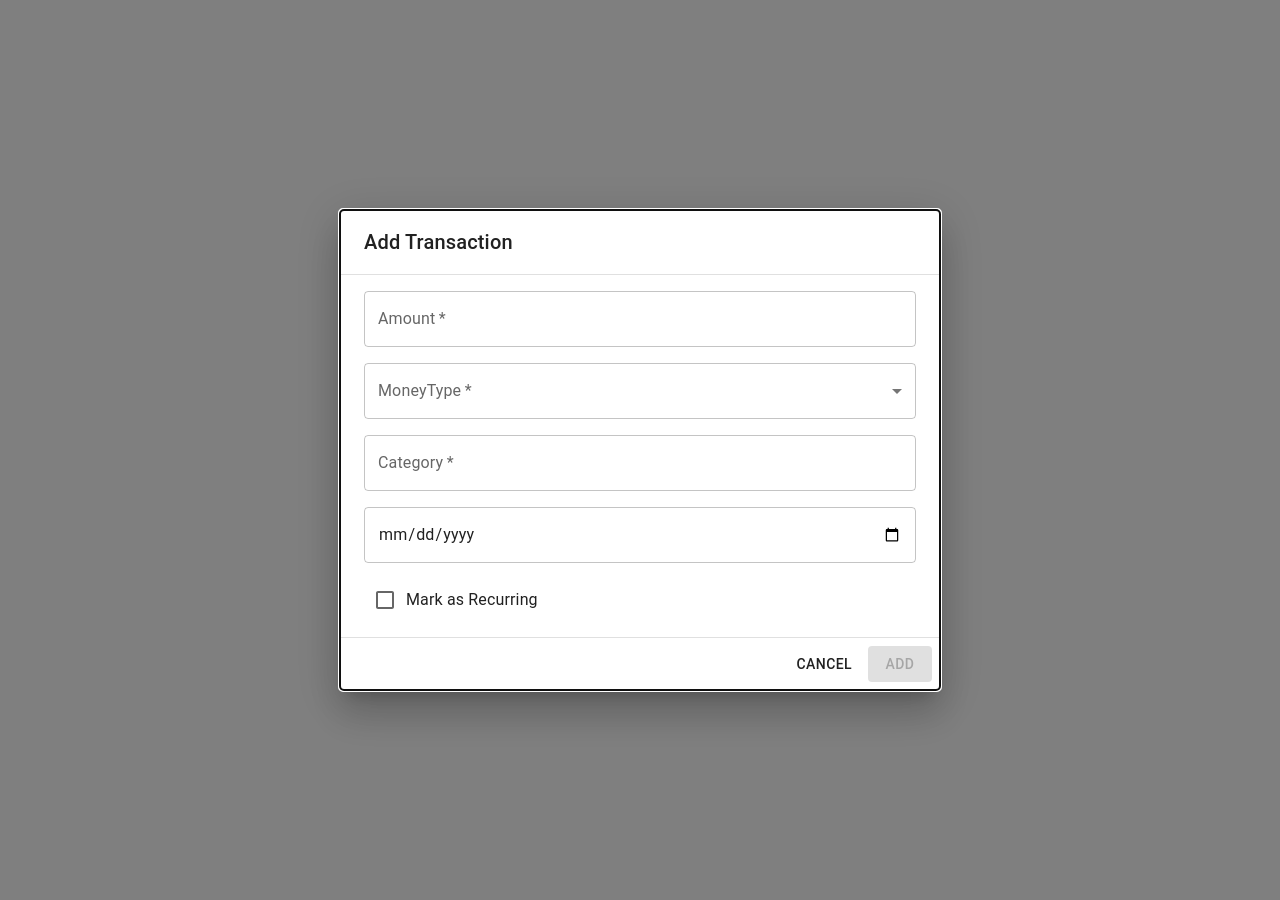
it: TransactionForm › blocks expense when balance too low
Type "500" into the number field with test id "amount" at (640,319), box [364,291,916,347]
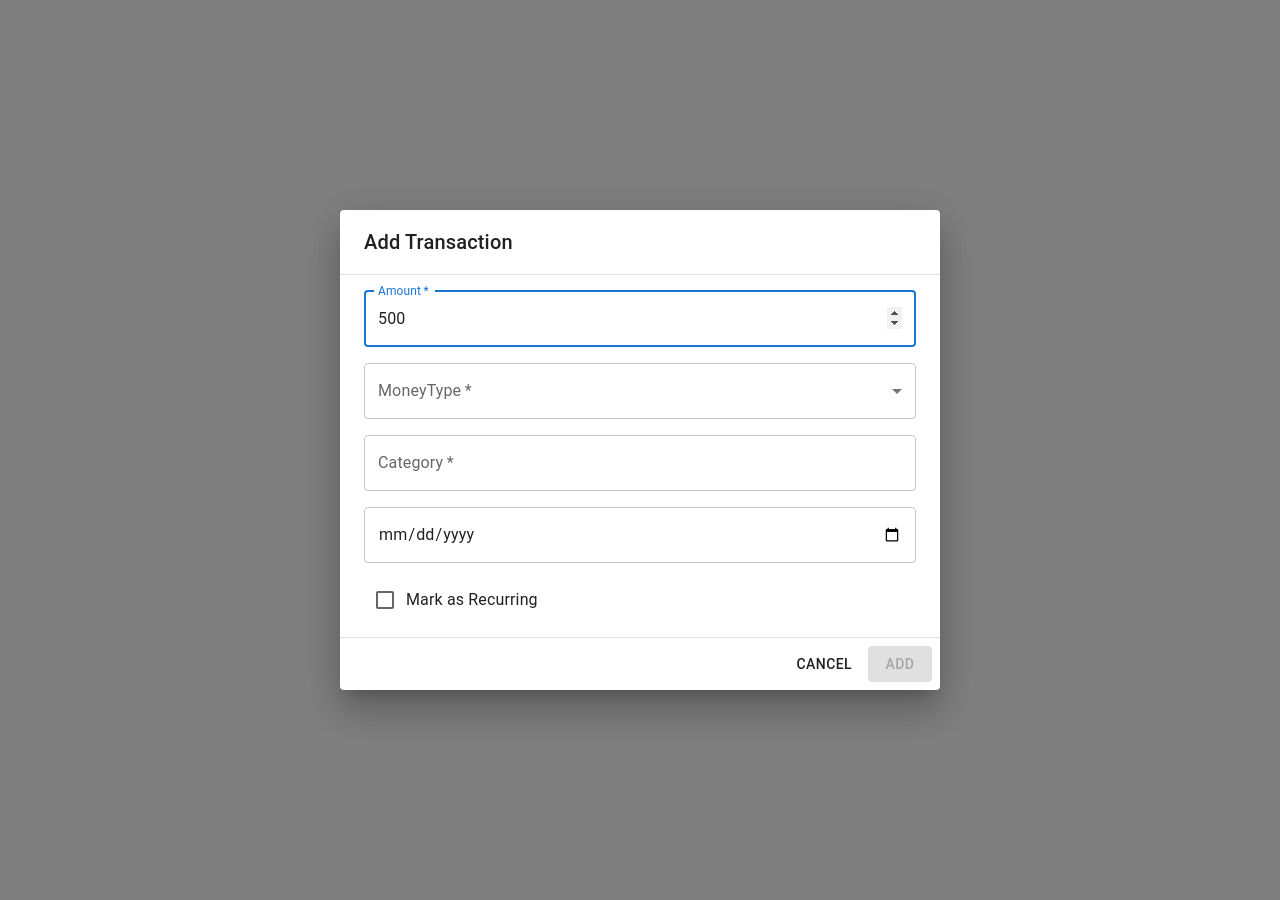
Type "Laptop" into the field with test id "Category" at (640,463), box [364,435,916,491]
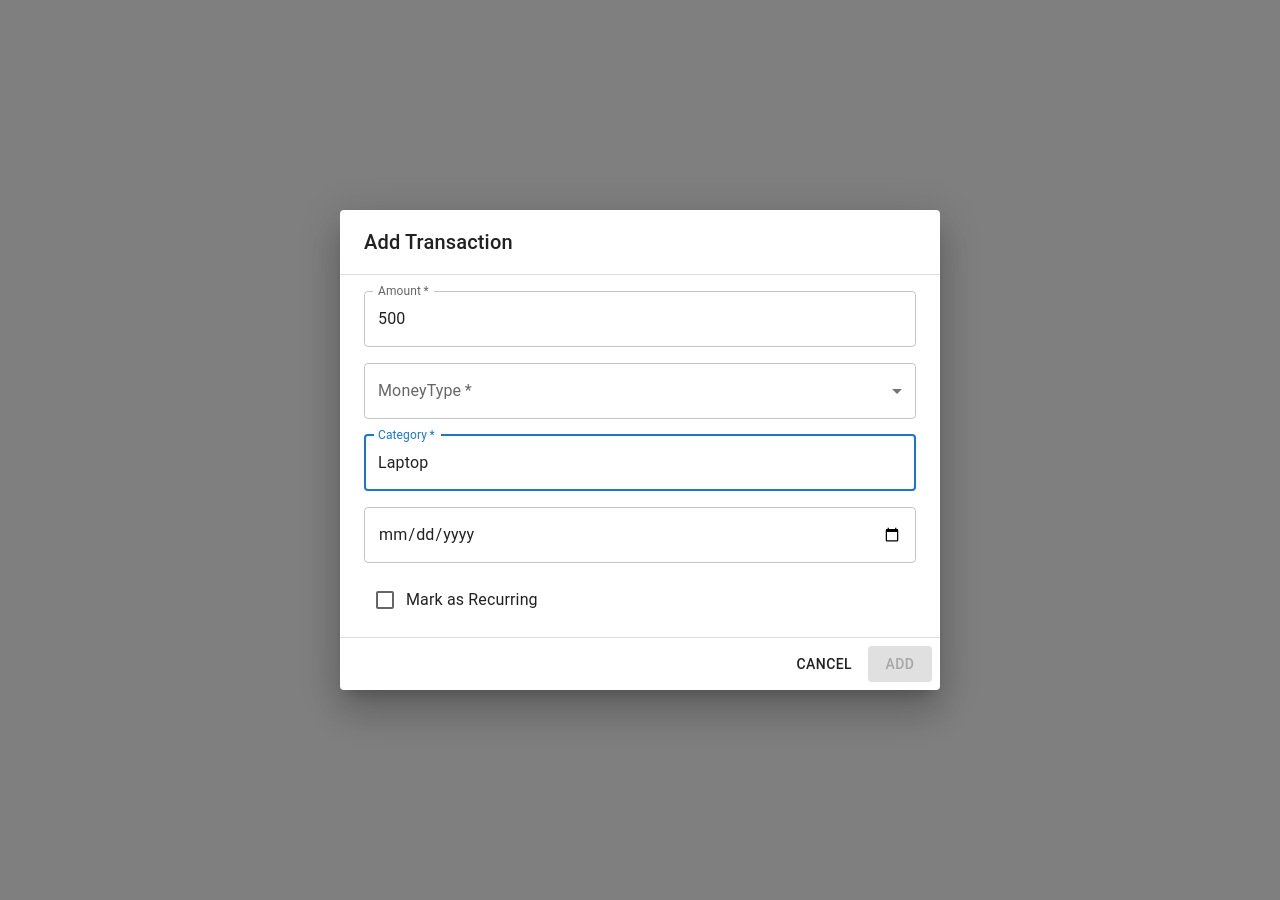
Click the dropdown named "MoneyType" at (640,391), box [364,363,916,419]
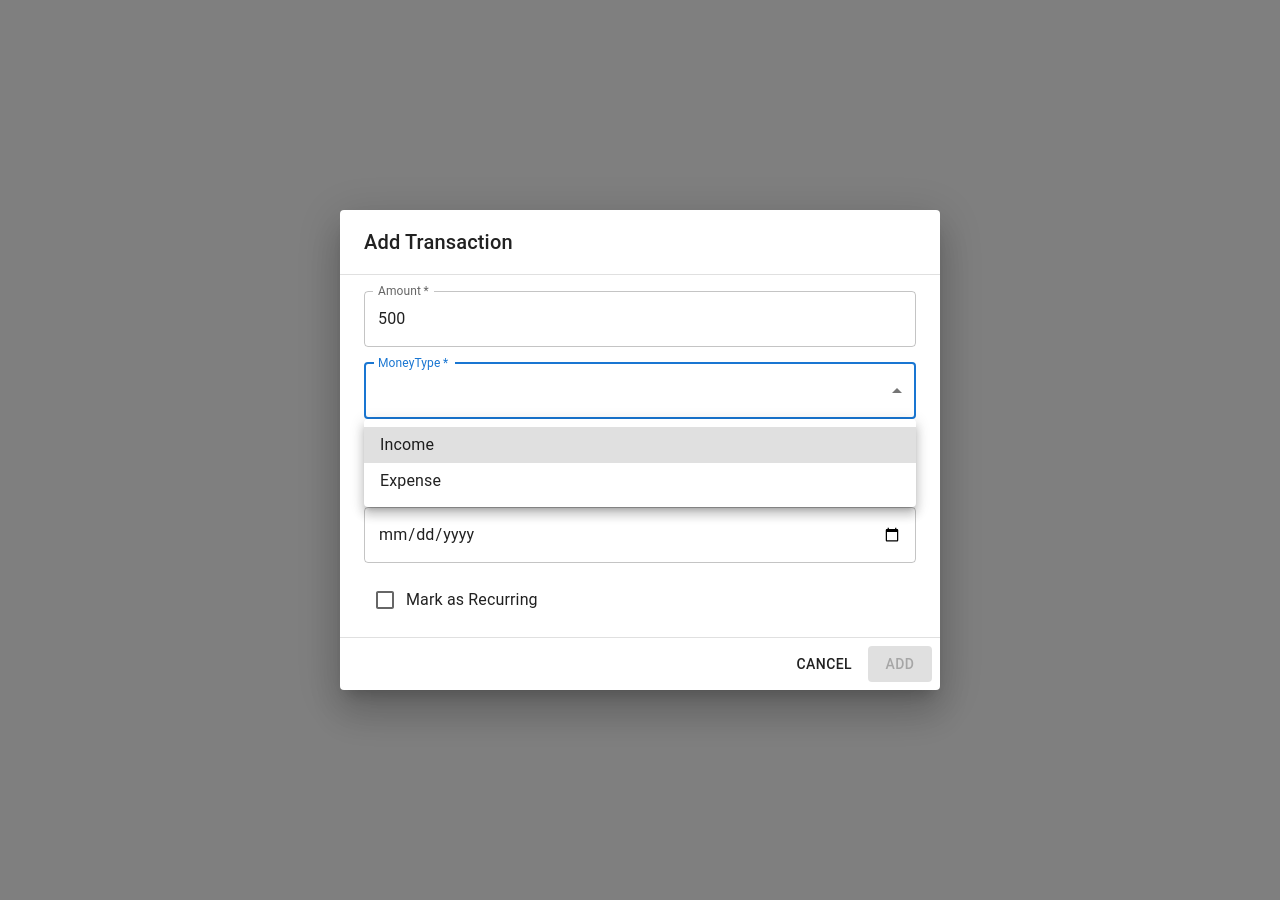
Click the option "Expense" at (411,480), box [380,471,441,490]
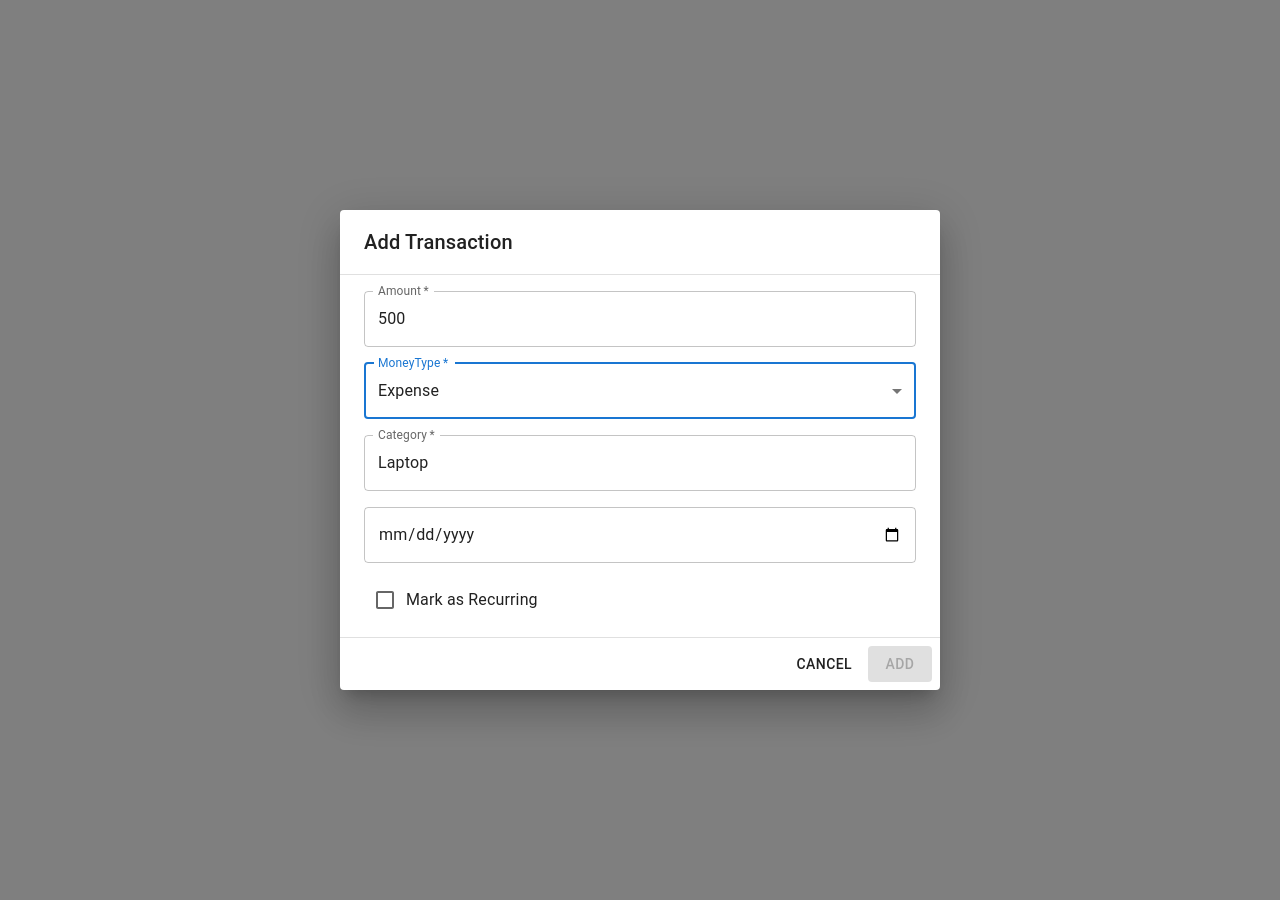
Type "2026-01-01" into the date field with test id "date" at (640,535), box [364,507,916,563]
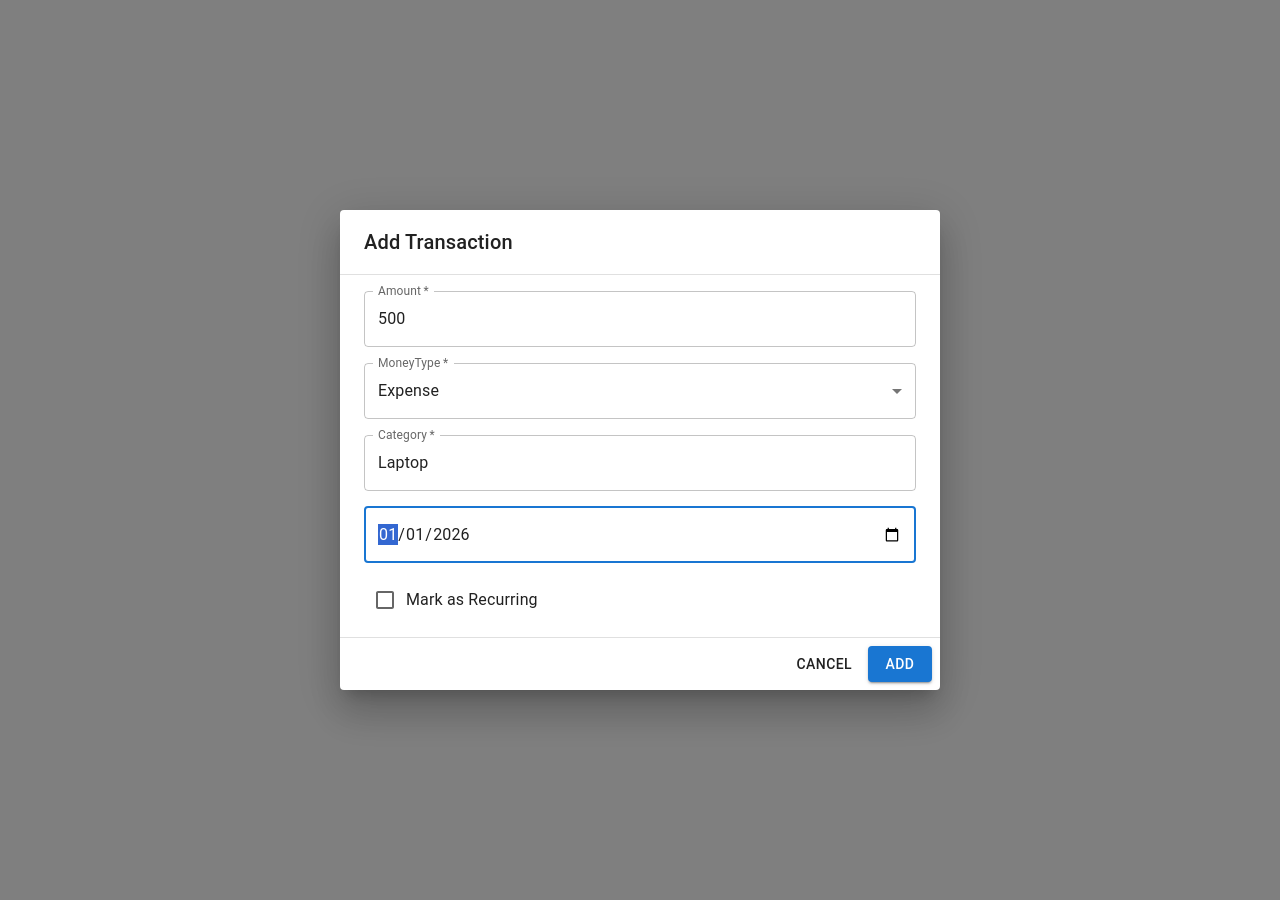
Expected: the button "Add" is enabled
Click the button "Add" at (900,664), box [868,646,932,682]
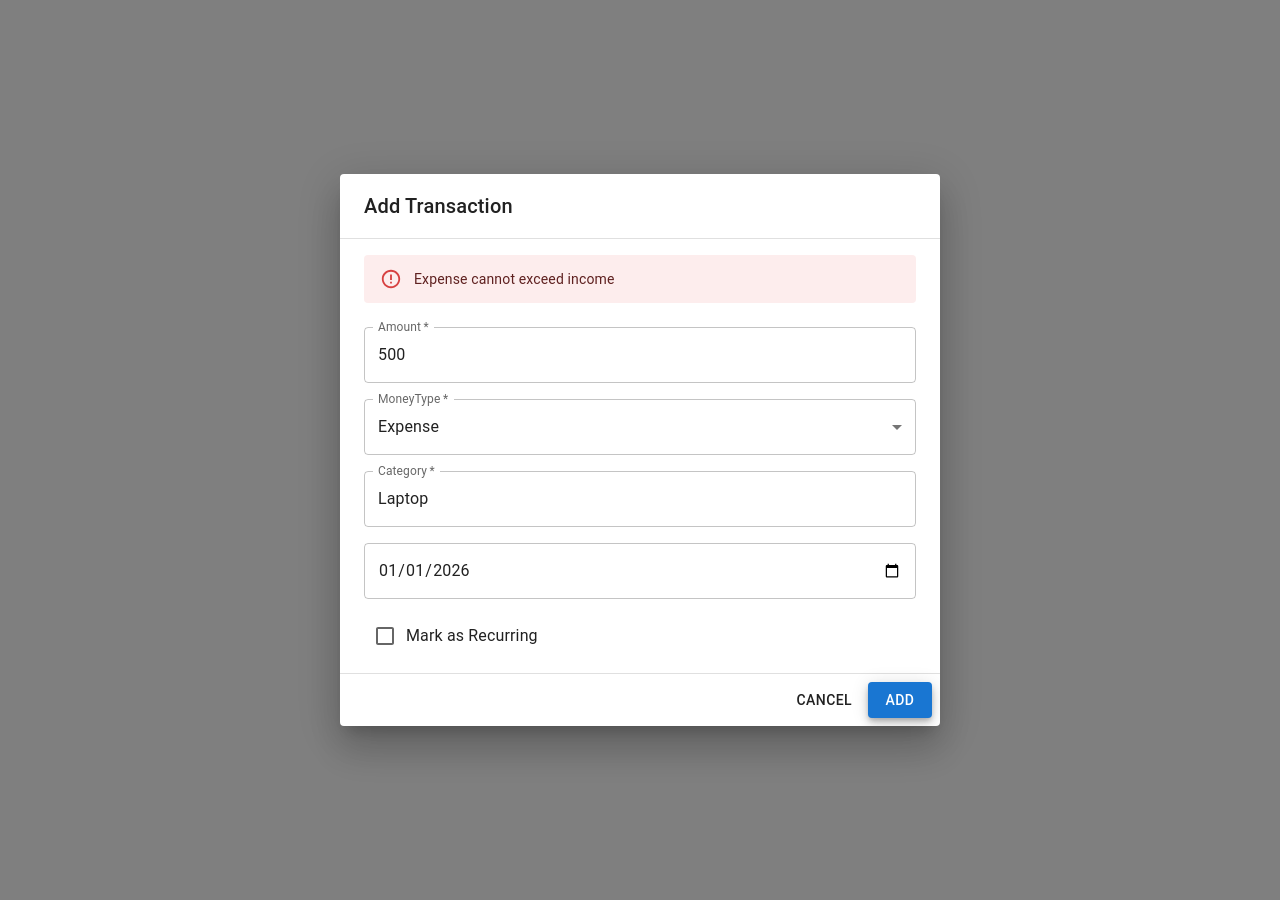
Expected: the text "Expense cannot exceed income" is shown, [414,271,615,287]
